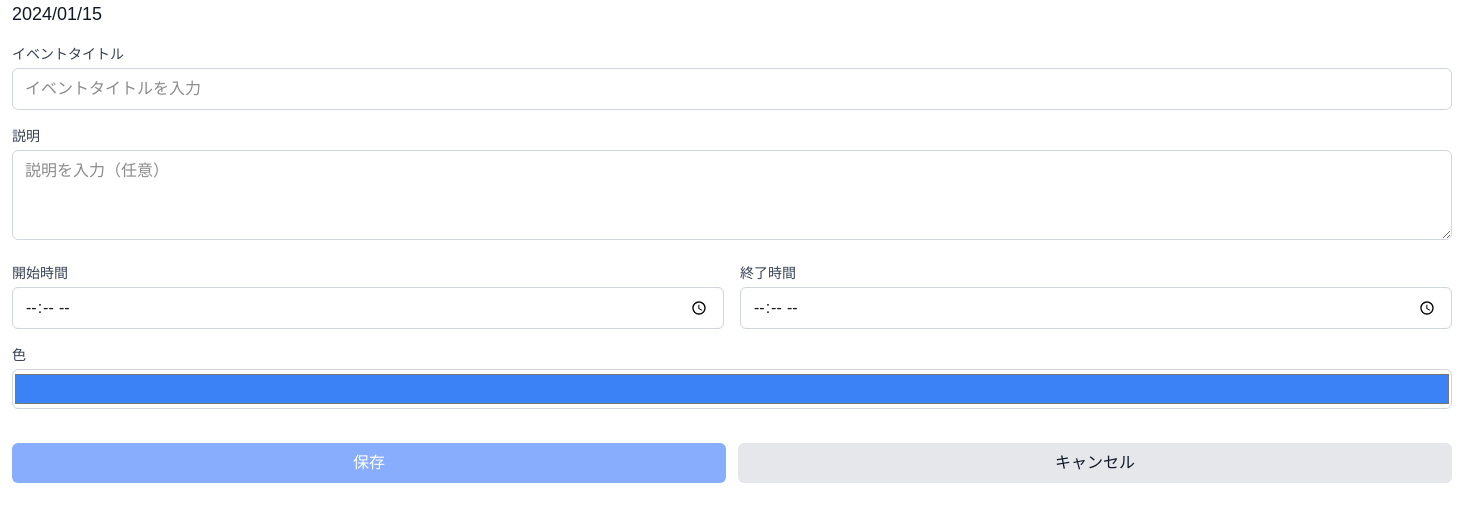
it: EventForm › バリデーション › 終了時間が開始時間より早い場合エラーメッセージが表示される
The width and height of the screenshot is (1464, 524).
In the field labelled "イベントタイトル": (732, 89) [12,68,1452,110], type "テストイベント"
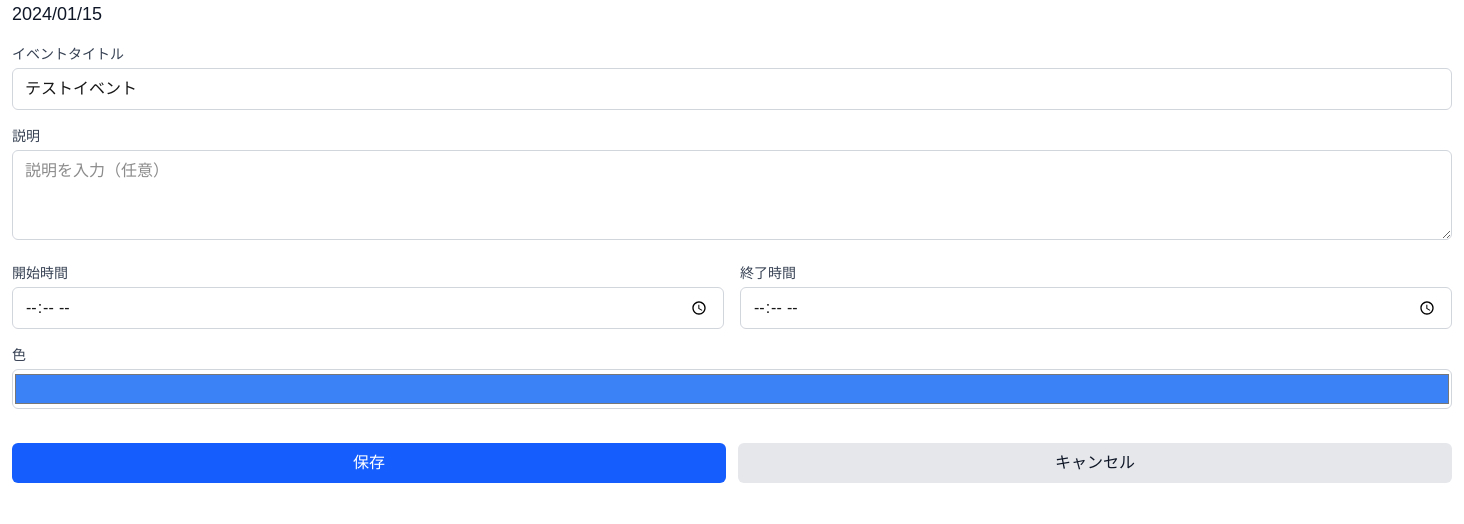
In the time field labelled "開始時間": (368, 308) [12,287,724,329], type "15:00"
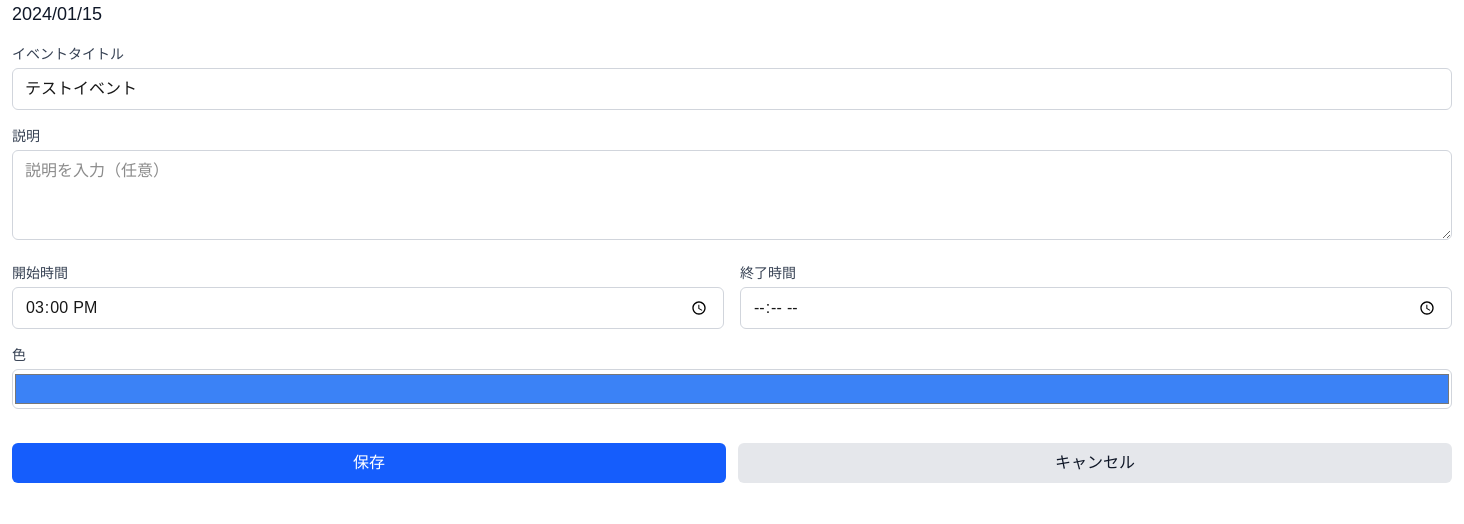
In the time field labelled "終了時間": (1096, 308) [740,287,1452,329], type "14:00"
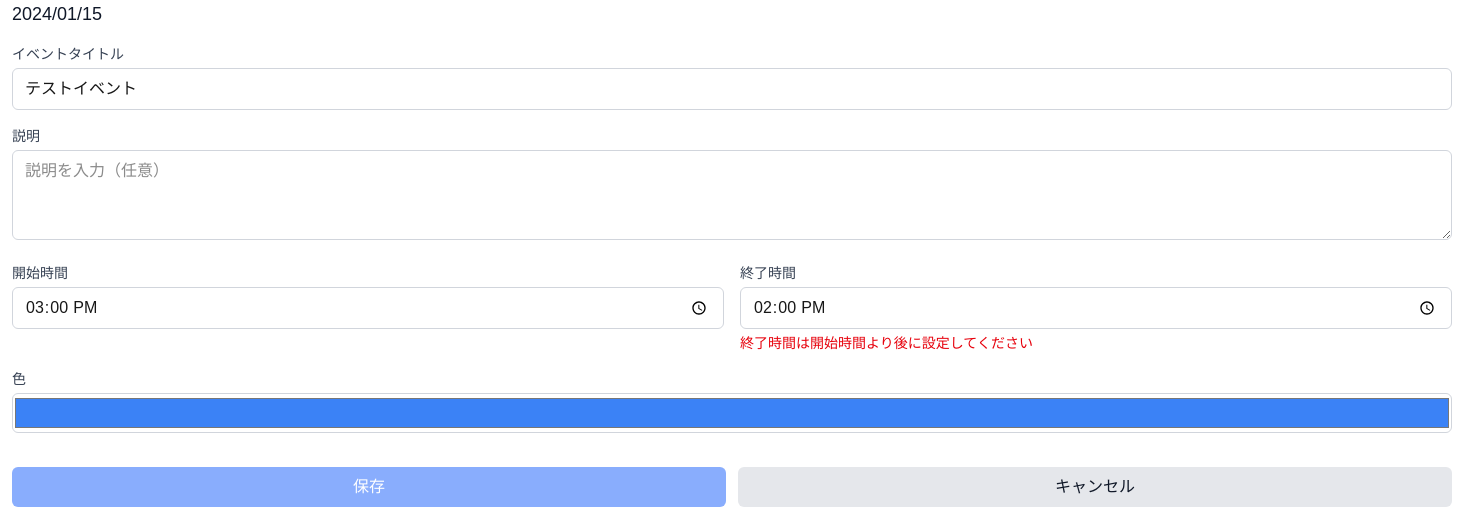
Expected: the text "終了時間は開始時間より後に設定してください" is shown, [740,335,1033,351]
